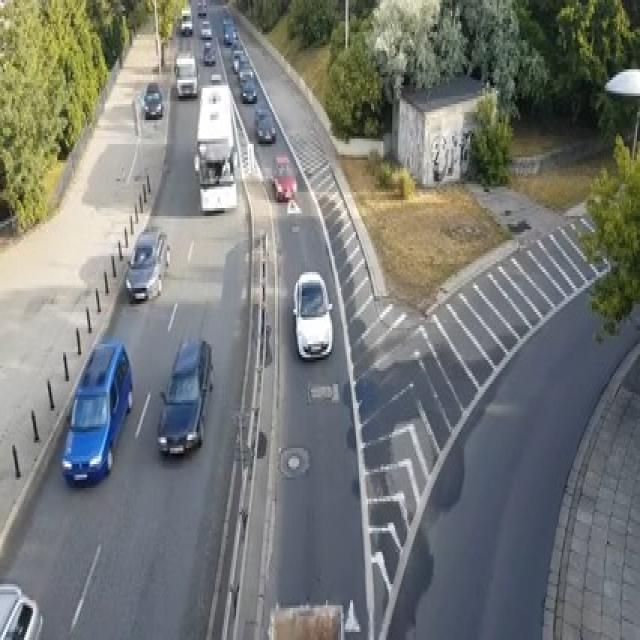bus: (192, 80, 238, 211)
car: (60, 339, 132, 485), (156, 336, 214, 456), (292, 269, 334, 360), (124, 227, 170, 301), (0, 582, 44, 638), (272, 155, 297, 200), (173, 53, 197, 96), (142, 80, 164, 117), (254, 107, 276, 141), (240, 80, 257, 101), (231, 48, 245, 72), (180, 8, 192, 35), (237, 67, 254, 85), (203, 40, 215, 64), (224, 24, 237, 45), (200, 19, 212, 37), (221, 16, 233, 29), (197, 0, 206, 16), (210, 72, 221, 83), (231, 27, 239, 42)
